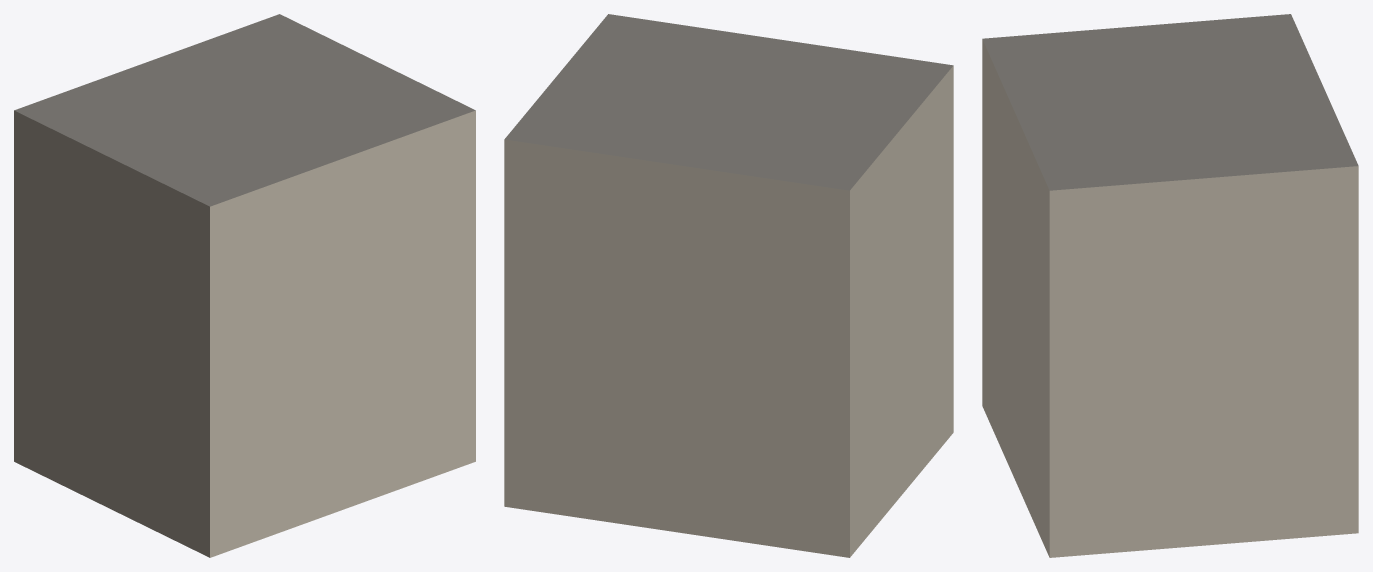
3 renders of one model, left to right at view 1: azimuth 30°, elevation 25°; view 2: azimuth 150°, elevation 25°; view 3: azimuth 270°, elevation 25°, orthographic. The views are drawn at different scales.
Visible parts, largest first — view 1: HP-w378107100; view 2: HP-w378107100; view 3: HP-w378107100.
Part boxes in pixels (box(x1,y1,x2,y2)): HP-w378107100: box(14, 14, 475, 557); HP-w378107100: box(504, 14, 953, 557); HP-w378107100: box(982, 14, 1358, 557).
Size of the model in its own units: 15.48 by 15 by 13.94.
